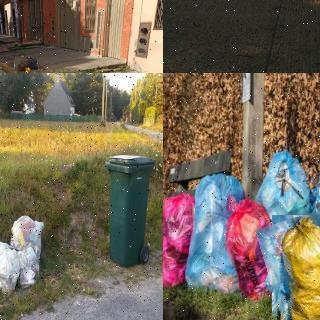Garbage: (191, 176, 247, 290), (263, 210, 320, 320), (226, 196, 284, 297), (255, 152, 311, 236), (163, 192, 195, 288), (9, 216, 49, 284), (0, 241, 21, 294), (310, 173, 320, 240), (15, 56, 40, 72)
